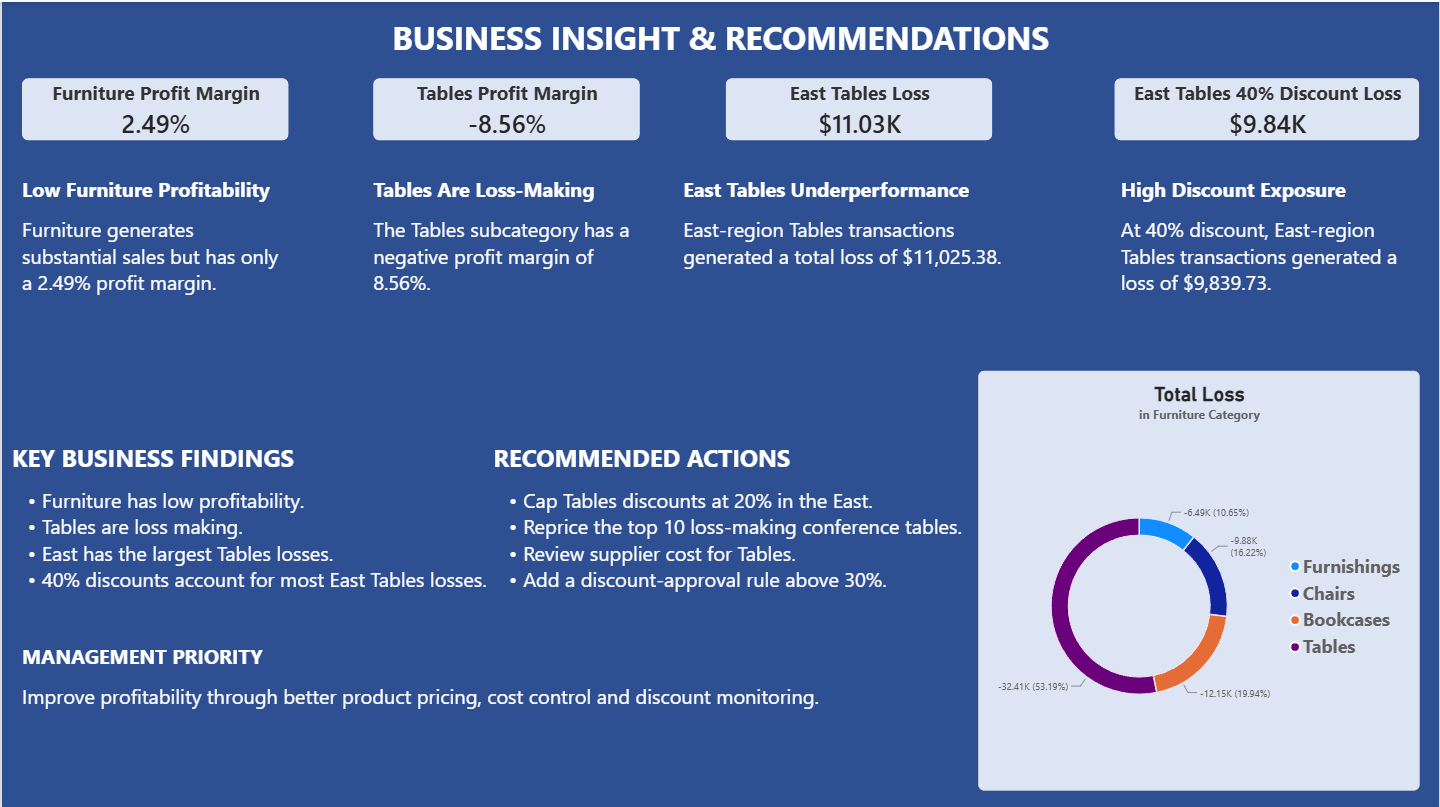

Layout of this report page (visuals, bound fields, positions):
{"tool":"powerbi","page":{"name":"Insight & Recommendation","canvas":[1920,1080],"ordinal":2},"visuals":[{"type":"textbox","box":[0,18.1,1920.1,57.9],"z":0},{"type":"cardVisual","fields":{"Data":["retail_analysis superstore.East Tables Loss"]},"box":[967.2,101.4,356.5,83.2],"z":1000},{"type":"cardVisual","fields":{"Data":["retail_analysis superstore.East Tables 40% Discount Loss"]},"box":[1485.3,101.4,407.2,83.2],"z":2000},{"type":"cardVisual","fields":{"Data":["retail_analysis superstore.Furniture Profit Margin"]},"box":[27.2,101.4,356.5,83.2],"z":3000},{"type":"cardVisual","fields":{"Data":["retail_analysis superstore.Tables Profit Margin"]},"box":[496.3,101.4,356.5,83.2],"z":4000},{"type":"textbox","box":[27.1,231.6,356.5,184.6],"z":5000},{"type":"textbox","box":[495.8,231.6,356.5,184.6],"z":6000},{"type":"textbox","box":[910,232.1,469.2,228.8],"z":7000},{"type":"textbox","box":[1494.3,232.6,392.7,204.5],"z":8000},{"type":"textbox","box":[13.4,586.1,660.5,233.4],"z":9000},{"type":"textbox","box":[656.2,586.1,631.2,283.9],"z":10000},{"type":"textbox","box":[27.1,854.2,1089.4,132.1],"z":11000},{"type":"donutChart","title":"Total Loss ","fields":{"Category":["retail_analysis superstore.Sub-Category"],"Series":["retail_analysis superstore.Category"],"Y":["retail_analysis superstore.Total Loss"]},"box":[1304.1,492.6,589.4,561],"z":12000}]}

Visuals, with their boxes in screenshot pixels (x1, y1, x2, y2), scaled from the page's 1920x1080 canvas onto the 1440x807 screenshot:
textbox: 0, 14, 1439, 57
cardVisual - retail_analysis superstore.East Tables Loss: 725, 76, 993, 138
cardVisual - retail_analysis superstore.East Tables 40% Discount Loss: 1114, 76, 1419, 138
cardVisual - retail_analysis superstore.Furniture Profit Margin: 20, 76, 288, 138
cardVisual - retail_analysis superstore.Tables Profit Margin: 372, 76, 640, 138
textbox: 20, 173, 288, 311
textbox: 372, 173, 639, 311
textbox: 682, 173, 1034, 344
textbox: 1121, 174, 1415, 327
textbox: 10, 438, 505, 612
textbox: 492, 438, 966, 650
textbox: 20, 638, 837, 737
"Total Loss " donutChart: 978, 368, 1420, 787
